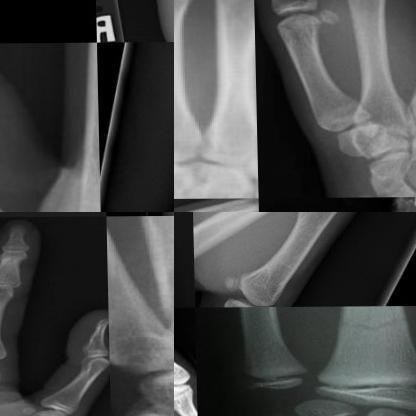fracture: (322, 306, 415, 355), (141, 216, 173, 333)
